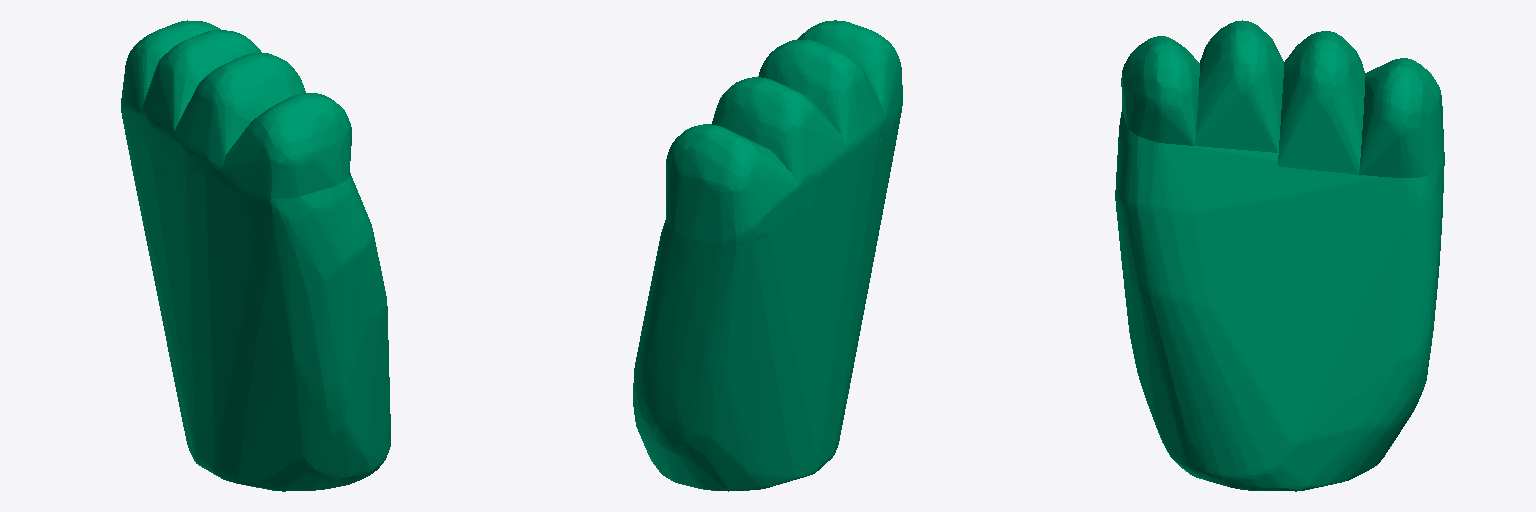
The robot description file, URDF, robot "ability_hand":
<robot name="ability_hand">
  <link name="base_link"/>
  <joint name="base_joint" type="fixed">
    <parent link="base_link"/>
    <child link="base"/>
    <origin xyz="0 0 0" rpy="0 0 -1.57079"/>
  </joint>
  <link name="base">
    <visual name="wrist_mesh">
      <origin rpy="0 0 0" xyz="0 0 0"/>
      <geometry>
        <mesh filename="meshes/visual/wristmesh.obj"/>
      </geometry>
    </visual>
    <collision>
      <origin xyz="0 0 0" rpy="0 0 0"/>
      <geometry>
        <mesh filename="meshes/collision/wristmesh_C.obj"/>
      </geometry>
    </collision>
    <inertial>  <!-- the mass and inertia here are NOT correct -->
      <mass value="0.200"/>
      <inertia ixx="978.26e-6" ixy="87.34e-6" ixz="322.99e-6" iyy="1244.78e-6" iyz="244.74e-6" izz="456.22e-6"/>
      <origin xyz="22.41911e-3 -0.15798201e-3 -0.01319866e-3" rpy="0 0 0"/>
    </inertial>
  </link>
  <joint name="wrist2thumb" type="fixed">
    <parent link="base"/>
    <child link="thumb_base"/>
    <origin xyz="24.0476665e-3 3.78124745e-3 32.32964923e-3" rpy="3.14148426 0.08848813 3.14036612"/>
  </joint>
  <link name="thumb_base">
    <inertial>
      <mass value="0.400"/>
      <inertia ixx="978.26e-6" ixy="87.34e-6" ixz="322.99e-6" iyy="1244.78e-6" iyz="244.74e-6" izz="456.22e-6"/>
      <origin xyz="22.41911e-3 -0.15798201e-3 -0.01319866e-3" rpy="0 0 0"/>
    </inertial>
    <visual name="palm_mesh">
      <origin rpy="0 0 0" xyz="0 0 0"/>
      <geometry>
        <mesh filename="meshes/visual/FB_palm_ref.obj"/>
      </geometry>
    </visual>
    <collision>                                  <!-- thumb_base -->
      <origin xyz="0 0 0" rpy="0 0 0"/>
      <geometry>
        <mesh filename="meshes/collision/FB_palm_ref.obj"/>
      </geometry>
    </collision>
  </link>
  <link name="thumb_L1">
    <inertial>
      <mass value="0.00268342"/>
      <inertia ixx="0.16931e-4" ixy="-0.076214e-4" ixz="-0.16959148e-4" iyy="0.77769934e-4" iyz="0.0156622e-4"
               izz="0.7249122e-4"/>
      <origin rpy="0 0 0" xyz="14.606e-3 -1.890854e-3 -3.1155356e-3"/>
    </inertial>
    <visual name="thumb_mesh_1">
      <origin xyz="27.8283501e-3 0 -14.7507000e-3" rpy="4.450589592585541 0 0"/>
      <geometry>
        <mesh filename="meshes/visual/thumb-F1.obj"/>
      </geometry>
    </visual>
    <collision>                            <!-- thumb_L1 -->
      <origin xyz="27.8283501e-3 0 -14.7507000e-3" rpy="4.450589592585541 0 0"/>
      <geometry>
        <mesh filename="meshes/collision/thumb-F1_C.obj"/>
      </geometry>
    </collision>
  </link>
  <link name="thumb_L2">
    <inertial>
      <mass value="0.0055"/>
      <inertia ixx="4.4789082e-4" ixy="4.4789082e-4" ixz="-0.62144934e-4" iyy="15.600996e-4" iyz="-0.07466143e-4"
               izz="17.908554e-4"/>
      <origin rpy="0 0 0" xyz="30.020522e-3 5.59476e-3 -4.1504356e-3"/>
    </inertial>
    <visual name="thumb_mesh_2">
      <origin xyz="65.18669e-3 23.34021e-3 -3.93483e-3" rpy="3.141592 0 0.343830"/>
      <geometry>
        <mesh filename="meshes/visual/thumb-F2.obj"/>
      </geometry>
    </visual>
    <collision>                            <!-- thumb_L2 -->
      <origin xyz="65.18669e-3 23.34021e-3 -3.93483e-3" rpy="3.141592 0 0.343830"/>
      <geometry>
        <mesh filename="meshes/collision/thumb-F2_C.obj"/>
      </geometry>
    </collision>
  </link>
  <joint name="thumb_q1" type="revolute">
    <parent link="thumb_base"/>
    <child link="thumb_L1"/>
    <origin xyz="0 0 0" rpy="0 0 3.330437"/>
    <axis xyz="0 0 1"/>
    <limit lower="-2.0943951" upper="0" effort="1.2"
           velocity="40.338888721"/>    <!-- angles in rad, efforts in N-m, velocity in rad/s -->
    <dynamics damping="0.001" friction="0.001"/>  <!-- Friction coefficient is not from quantitative measurement -->
  </joint>
  <joint name="thumb_q2" type="revolute">
    <parent link="thumb_L1"/>
    <child link="thumb_L2"/>
    <origin xyz="27.8283501e-3 0 -14.7507000e-3" rpy="4.450589592585541 0 0"/>
    <axis xyz="0 0 1"/>
    <limit lower="0" upper="2.0943951" effort="6.0"
           velocity="8.0677777442"/>    <!-- angles in rad, efforts in N-m, velocity in rad/s -->
    <dynamics damping="0.001" friction="0.001"/>  <!-- Friction coefficient is not from quantitative measurement -->
  </joint>
  <link name="thumb_tip"/>
  <joint name="thumb_tip_joint" type="fixed">
    <parent link="thumb_L2"/>
    <child link="thumb_tip"/>
    <origin rpy="0 0 0" xyz="0.065 0.016 0"/>
  </joint>
  <link name="index_L1">
    <inertial>
      <mass value="0.00635888"/>
      <inertia ixx="0.29766e-4" ixy="-0.06447133e-4" ixz="-0.00423315e-4" iyy="3.6947967e-4" iyz="0.00083028e-4"
               izz="3.8176336e-4"/>
      <origin xyz="22.41911e-3 -0.15798201e-3 -0.01319866e-3" rpy="0 0 0"/>
    </inertial>
    <visual name="index_mesh_1">
      <origin xyz="38.472723e-3 3.257695e-3 0.000000" rpy="0 0 0.084474"/>
      <geometry>
        <mesh filename="meshes/visual/idx-F1.obj"/>
      </geometry>
    </visual>
    <collision>                                  <!-- index_L1 -->
      <origin xyz="0.036 -0.00175 0" rpy="0 0 0"/>
      <geometry>
        <sphere radius="0.0085"/>
      </geometry>
    </collision>
    <collision>
      <origin xyz="0.019 -0.0045 0" rpy="0 0 0.0845"/>
      <geometry>
        <box size="0.028 0.012 0.016"/>
      </geometry>
    </collision>
    <collision>
      <origin xyz="0.018 0.006 0" rpy="0 0 0.0845"/>
      <geometry>
        <box size="0.02 0.01 0.016"/>
      </geometry>
    </collision>
    <collision>
      <origin xyz="-0.001 0 0.007" rpy="0 0 0.0845"/>
      <geometry>
        <box size="0.012 0.012 0.002"/>
      </geometry>
    </collision>
    <collision>
      <origin xyz="-0.001 0 -0.007" rpy="0 0 0.0845"/>
      <geometry>
        <box size="0.012 0.012 0.002"/>
      </geometry>
    </collision>
  </link>
  <link name="index_L2">
    <inertial>
      <mass value="0.00645"/>
      <inertia ixx="0.82671e-4" ixy="-1.08876e-4" ixz="-0.00037e-4" iyy="1.98028e-4" iyz="0.00081e-4" izz="2.64638e-4"/>
      <origin rpy="0 0 0" xyz="13.36818e-3 -8.75392e-3 -0.02886e-3"/>
    </inertial>
    <visual name="index_mesh_2">
      <origin rpy="0 0 0" xyz="9.1241e-3 0 0"/>
      <geometry>
        <mesh filename="meshes/visual/idx-F2.obj"/>
      </geometry>
    </visual>
    <collision>                            <!-- index_L2 -->
      <origin xyz="0 0 0" rpy="0 0 0"/>
      <geometry>
        <mesh filename="meshes/collision/idx-F2_C.obj"/>
      </geometry>
    </collision>
    <collision>
      <origin xyz="0.03 -0.016 0" rpy="0 0 0"/>
      <geometry>
        <sphere radius="0.007"/>
      </geometry>
    </collision>
  </link>
  <joint name="index_q1" type="revolute">
    <parent link="thumb_base"/>
    <child link="index_L1"/>
    <origin xyz="-9.49e-3 -13.04e-3 -62.95e-3" rpy="-1.982050 1.284473 -2.090591"/>
    <axis xyz="0 0 1"/>
    <limit lower="0" upper="2.0943951" effort="6.0"
           velocity="8.0677777442"/>    <!-- angles in rad, efforts in N-m, velocity in rad/s -->
    <dynamics damping="0.001" friction="0.001"/>  <!-- Friction coefficient is not from quantitative measurement -->
  </joint>
  <joint name="index_q2" type="revolute">
    <parent link="index_L1"/>
    <child link="index_L2"/>
    <origin xyz="38.472723e-3 3.257695e-3 0.000000e-3" rpy="0 0 0.084474"/>
    <axis xyz="0 0 1"/>
    <limit lower="0.0" upper="2.6586" effort="6.0"
           velocity="8.0677777442"/>    <!-- angles in rad, efforts in N-m, velocity in rad/s -->
    <dynamics damping="0.001" friction="0.001"/>  <!-- Friction coefficient is not from quantitative measurement -->
  </joint>
  <link name="index_tip"/>
  <joint name="index_tip_joint" type="fixed">
    <parent link="index_L2"/>
    <child link="index_tip"/>
    <origin rpy="0 0 0" xyz="0.035  -0.018 0"/>
  </joint>
  <link name="middle_L1">
    <inertial>
      <mass value="0.00635888"/>
      <inertia ixx="0.29766e-4" ixy="-0.06447133e-4" ixz="-0.00423315e-4" iyy="3.6947967e-4" iyz="0.00083028e-4"
               izz="3.8176336e-4"/>
      <origin xyz="22.41911e-3 -0.15798201e-3 -0.01319866e-3" rpy="0 0 0"/>
    </inertial>
    <visual name="middle_mesh_1">
      <origin xyz="38.472723e-3 3.257695e-3 0.000000" rpy="0 0 0.084474"/>
      <geometry>
        <mesh filename="meshes/visual/idx-F1.obj"/>
      </geometry>
    </visual>
    <collision>                                  <!-- middle_L1 -->
      <origin xyz="0.036 -0.00175 0" rpy="0 0 0"/>
      <geometry>
        <sphere radius="0.0085"/>
      </geometry>
    </collision>
    <collision>
      <origin xyz="0.019 -0.0045 0" rpy="0 0 0.0845"/>
      <geometry>
        <box size="0.028 0.012 0.016"/>
      </geometry>
    </collision>
    <collision>
      <origin xyz="0.018 0.006 0" rpy="0 0 0.0845"/>
      <geometry>
        <box size="0.02 0.01 0.016"/>
      </geometry>
    </collision>
    <collision>
      <origin xyz="-0.001 0 0.007" rpy="0 0 0.0845"/>
      <geometry>
        <box size="0.012 0.012 0.002"/>
      </geometry>
    </collision>
    <collision>
      <origin xyz="-0.001 0 -0.007" rpy="0 0 0.0845"/>
      <geometry>
        <box size="0.012 0.012 0.002"/>
      </geometry>
    </collision>
  </link>
  <link name="middle_L2">
    <inertial>
      <mass value="0.00645"/>
      <inertia ixx="0.82671e-4" ixy="-1.08876e-4" ixz="-0.00037e-4" iyy="1.98028e-4" iyz="0.00081e-4" izz="2.64638e-4"/>
      <origin rpy="0 0 0" xyz="13.36818e-3 -8.75392e-3 -0.02886e-3"/>
    </inertial>
    <visual name="middle_mesh_2">
      <origin rpy="0 0 0" xyz="9.1241e-3 0 0"/>
      <geometry>
        <mesh filename="meshes/visual/idx-F2.obj"/>
      </geometry>
    </visual>
    <collision>                            <!-- middle_L2 -->
      <origin xyz="0 0 0" rpy="0 0 0"/>
      <geometry>
        <mesh filename="meshes/collision/idx-F2_C.obj"/>
      </geometry>
    </collision>
    <collision>
      <origin xyz="0.03 -0.016 0" rpy="0 0 0"/>
      <geometry>
        <sphere radius="0.007"/>
      </geometry>
    </collision>
  </link>
  <joint name="middle_q1" type="revolute">
    <parent link="thumb_base"/>
    <child link="middle_L1"/>
    <origin xyz="9.653191e-3 -15.310271e-3 -67.853949e-3" rpy="-1.860531 1.308458 -1.896217"/>
    <limit lower="0" upper="2.0943951" effort="6.0"
           velocity="8.0677777442"/>    <!-- angles in rad, efforts in N-m, velocity in rad/s -->
    <dynamics damping="0.001" friction="0.001"/>  <!-- Friction coefficient is not from quantitative measurement -->
    <axis xyz="0 0 1"/>
  </joint>
  <joint name="middle_q2" type="revolute">
    <parent link="middle_L1"/>
    <child link="middle_L2"/>
    <origin xyz="38.472723e-3 3.257695e-3 0.000000" rpy="0 0 0.084474"/>
    <axis xyz="0 0 1"/>
    <limit lower="0.0" upper="2.6586" effort="6.0"
           velocity="8.0677777442"/>    <!-- angles in rad, efforts in N-m, velocity in rad/s -->
    <dynamics damping="0.001" friction="0.001"/>  <!-- Friction coefficient is not from quantitative measurement -->
  </joint>
  <link name="middle_tip"/>
  <joint name="middle_tip_joint" type="fixed">
    <parent link="middle_L2"/>
    <child link="middle_tip"/>
    <origin rpy="0 0 0" xyz="0.035  -0.018 0"/>
  </joint>
  <link name="ring_L1">
    <inertial>
      <mass value="0.00635888"/>
      <inertia ixx="0.29766e-4" ixy="-0.06447133e-4" ixz="-0.00423315e-4" iyy="3.6947967e-4" iyz="0.00083028e-4"
               izz="3.8176336e-4"/>
      <origin xyz="22.41911e-3 -0.15798201e-3 -0.01319866e-3" rpy="0 0 0"/>
    </inertial>
    <visual name="ring_mesh_1">
      <origin xyz="38.472723e-3 3.257695e-3 0.000000" rpy="0 0 0.084474"/>
      <geometry>
        <mesh filename="meshes/visual/idx-F1.obj"/>
      </geometry>
    </visual>
    <collision>                                  <!-- ring_L1 -->
      <origin xyz="0.036 -0.00175 0" rpy="0 0 0"/>
      <geometry>
        <sphere radius="0.0085"/>
      </geometry>
    </collision>
    <collision>
      <origin xyz="0.019 -0.0045 0" rpy="0 0 0.0845"/>
      <geometry>
        <box size="0.028 0.012 0.016"/>
      </geometry>
    </collision>
    <collision>
      <origin xyz="0.018 0.006 0" rpy="0 0 0.0845"/>
      <geometry>
        <box size="0.02 0.01 0.016"/>
      </geometry>
    </collision>
    <collision>
      <origin xyz="-0.001 0 0.007" rpy="0 0 0.0845"/>
      <geometry>
        <box size="0.012 0.012 0.002"/>
      </geometry>
    </collision>
    <collision>
      <origin xyz="-0.001 0 -0.007" rpy="0 0 0.0845"/>
      <geometry>
        <box size="0.012 0.012 0.002"/>
      </geometry>
    </collision>
  </link>
  <link name="ring_L2">
    <inertial>
      <mass value="0.00645"/>
      <inertia ixx="0.82671e-4" ixy="-1.08876e-4" ixz="-0.00037e-4" iyy="1.98028e-4" iyz="0.00081e-4" izz="2.64638e-4"/>
      <origin rpy="0 0 0" xyz="13.36818e-3 -8.75392e-3 -0.02886e-3"/>
    </inertial>
    <visual name="ring_mesh_2">
      <origin rpy="0 0 0" xyz="9.1241e-3 0 0"/>
      <geometry>
        <mesh filename="meshes/visual/idx-F2.obj"/>
      </geometry>
    </visual>
    <collision>                            <!-- ring_L2 -->
      <origin xyz="0 0 0" rpy="0 0 0"/>
      <geometry>
        <mesh filename="meshes/collision/idx-F2_C.obj"/>
      </geometry>
    </collision>
    <collision>
      <origin xyz="0.03 -0.016 0" rpy="0 0 0"/>
      <geometry>
        <sphere radius="0.007"/>
      </geometry>
    </collision>
  </link>
  <joint name="ring_q1" type="revolute">
    <parent link="thumb_base"/>
    <child link="ring_L1"/>
    <origin xyz="29.954260e-3 -14.212492e-3 -67.286105e-3" rpy="-1.716598 1.321452 -1.675862"/>
    <limit lower="0" upper="2.0943951" effort="6.0"
           velocity="8.0677777442"/>    <!-- angles in rad, efforts in N-m, velocity in rad/s -->
    <dynamics damping="0.001" friction="0.001"/>  <!-- Friction coefficient is not from quantitative measurement -->
    <axis xyz="0 0 1"/>
  </joint>
  <joint name="ring_q2" type="revolute">
    <parent link="ring_L1"/>
    <child link="ring_L2"/>
    <origin xyz="38.472723e-3 3.257695e-3 0.000000" rpy="0 0 0.084474"/>
    <axis xyz="0 0 1"/>
    <limit lower="0.0" upper="2.6586" effort="6.0"
           velocity="8.0677777442"/>    <!-- angles in rad, efforts in N-m, velocity in rad/s -->
    <dynamics damping="0.001" friction="0.001"/>  <!-- Friction coefficient is not from quantitative measurement -->
  </joint>
  <link name="ring_tip"/>
  <joint name="ring_tip_joint" type="fixed">
    <parent link="ring_L2"/>
    <child link="ring_tip"/>
    <origin rpy="0 0 0" xyz="0.035  -0.018 0"/>
  </joint>
  <link name="pinky_L1">
    <inertial>
      <mass value="0.00635888"/>
      <inertia ixx="0.29766e-4" ixy="-0.06447133e-4" ixz="-0.00423315e-4" iyy="3.6947967e-4" iyz="0.00083028e-4"
               izz="3.8176336e-4"/>
      <origin xyz="22.41911e-3 -0.15798201e-3 -0.01319866e-3" rpy="0 0 0"/>
    </inertial>
    <visual name="pinky_mesh_1">
      <origin xyz="38.472723e-3 3.257695e-3 0.000000" rpy="0 0 0.084474"/>
      <geometry>
        <mesh filename="meshes/visual/idx-F1.obj"/>
      </geometry>
    </visual>
    <collision>                                  <!-- pinky_L1 -->
      <origin xyz="0.036 -0.00175 0" rpy="0 0 0"/>
      <geometry>
        <sphere radius="0.0085"/>
      </geometry>
    </collision>
    <collision>
      <origin xyz="0.019 -0.0045 0" rpy="0 0 0.0845"/>
      <geometry>
        <box size="0.028 0.012 0.016"/>
      </geometry>
    </collision>
    <collision>
      <origin xyz="0.018 0.006 0" rpy="0 0 0.0845"/>
      <geometry>
        <box size="0.02 0.01 0.016"/>
      </geometry>
    </collision>
    <collision>
      <origin xyz="-0.001 0 0.007" rpy="0 0 0.0845"/>
      <geometry>
        <box size="0.012 0.012 0.002"/>
      </geometry>
    </collision>
    <collision>
      <origin xyz="-0.001 0 -0.007" rpy="0 0 0.0845"/>
      <geometry>
        <box size="0.012 0.012 0.002"/>
      </geometry>
    </collision>
  </link>
  <link name="pinky_L2">
    <inertial>
      <mass value="0.00645"/>
      <inertia ixx="0.82671e-4" ixy="-1.08876e-4" ixz="-0.00037e-4" iyy="1.98028e-4" iyz="0.00081e-4" izz="2.64638e-4"/>
      <origin rpy="0 0 0" xyz="13.36818e-3 -8.75392e-3 -0.02886e-3"/>
    </inertial>
    <visual name="pinky_mesh_2">
      <origin rpy="0 0 0" xyz="9.1241e-3 0 0"/>
      <geometry>
        <mesh filename="meshes/visual/idx-F2.obj"/>
      </geometry>
    </visual>
    <collision>                            <!-- pinky_L2 -->
      <origin xyz="0 0 0" rpy="0 0 0"/>
      <geometry>
        <mesh filename="meshes/collision/idx-F2_C.obj"/>
      </geometry>
    </collision>
    <collision>
      <origin xyz="0.03 -0.016 0" rpy="0 0 0"/>
      <geometry>
        <sphere radius="0.007"/>
      </geometry>
    </collision>
  </link>
  <joint name="pinky_q1" type="revolute">
    <parent link="thumb_base"/>
    <child link="pinky_L1"/>
    <origin xyz="49.521293e-3 -11.004583e-3 -63.029065e-3" rpy="-1.765110 1.322220 -1.658383"/>
    <limit lower="0" upper="2.0943951" effort="6.0"
           velocity="8.0677777442"/>    <!-- angles in rad, efforts in N-m, velocity in rad/s -->
    <dynamics damping="0.001" friction="0.001"/>  <!-- Friction coefficient is not from quantitative measurement -->
    <axis xyz="0 0 1"/>
  </joint>
  <joint name="pinky_q2" type="revolute">
    <parent link="pinky_L1"/>
    <child link="pinky_L2"/>
    <origin xyz="38.472723e-3 3.257695e-3 0.000000" rpy="0 0 0.084474"/>
    <limit lower="0.0" upper="2.6586" effort="6.0"
           velocity="8.0677777442"/>    <!-- angles in rad, efforts in N-m, velocity in rad/s -->
    <dynamics damping="0.001" friction="0.001"/>  <!-- Friction coefficient is not from quantitative measurement -->
    <axis xyz="0 0 1"/>
  </joint>
  <link name="pinky_tip"/>
  <joint name="pinky_tip_joint" type="fixed">
    <parent link="pinky_L2"/>
    <child link="pinky_tip"/>
    <origin rpy="0 0 0" xyz="0.035  -0.018 0"/>
  </joint>
</robot>

--- Render facts (derived) ---
Views: 3 orthographic renders of the robot side by side, from view 1: azimuth 30°, elevation 25°; view 2: azimuth 150°, elevation 25°; view 3: azimuth 270°, elevation 25°.
Model ability_hand with 18 links and 17 joints (10 revolute, 7 fixed), rooted at base_link, posed every joint at zero.
Visible links, largest first — view 1: thumb_base; view 2: thumb_base; view 3: thumb_base.
Link boxes in pixels (x1,y1,x2,y2): thumb_base: (121, 20, 390, 491); thumb_base: (633, 20, 902, 491); thumb_base: (1115, 20, 1444, 491).
Size in the robot's own frame: 0.0552 by 0.083 by 0.1119 metres.
1 mesh visuals loaded from 6 distinct referenced files (1 OBJ); not drawn: 11 (reference not matched to a file when rendering).